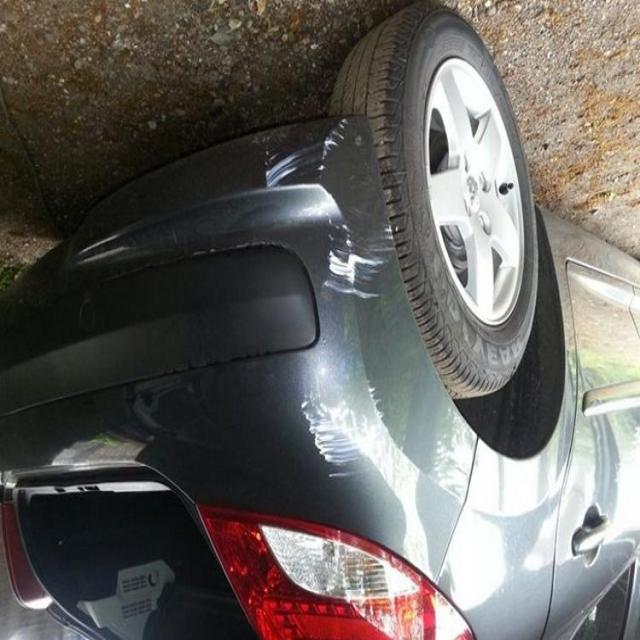scratch: (241, 108, 407, 302), (288, 371, 412, 497)
